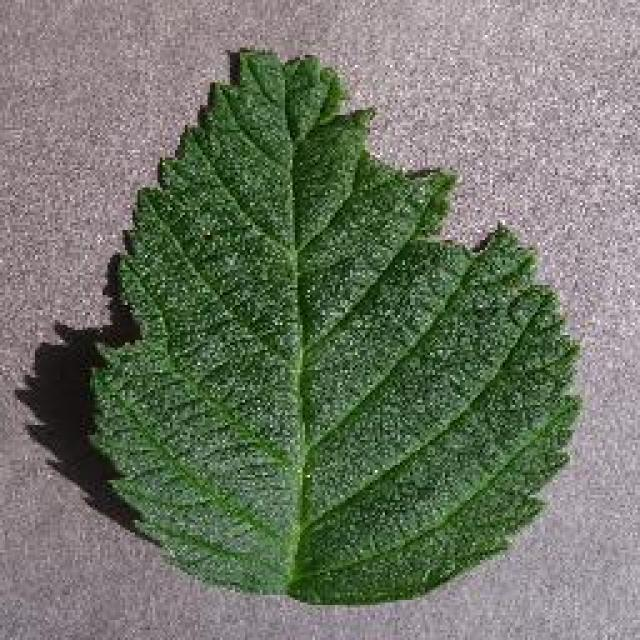Ras_healthy: (106, 66, 566, 585)
